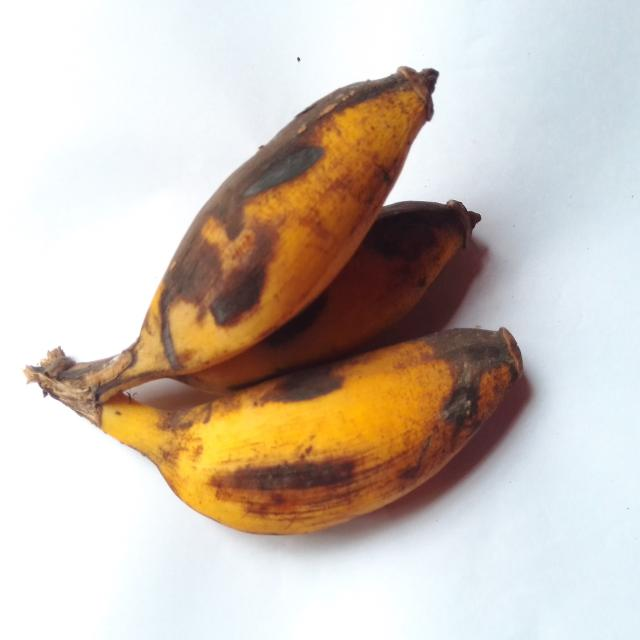banana: (26, 67, 437, 417), (94, 329, 521, 533), (179, 201, 480, 394)
